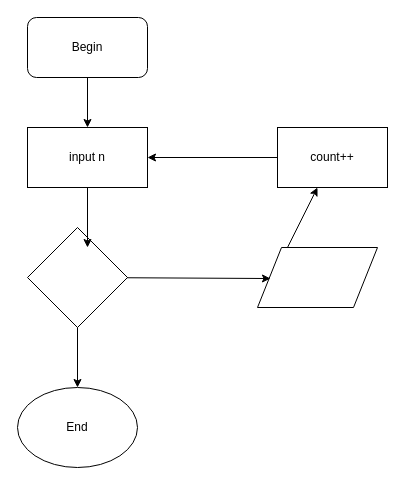
Some shapes in this 405 by 485 pixel diagram are drawn without their labels. Here are the shapes that lost their labels. From the top down, the centre of each, then its label:
point (77, 277): while count <n && count%2=1
point (317, 277): Output count
